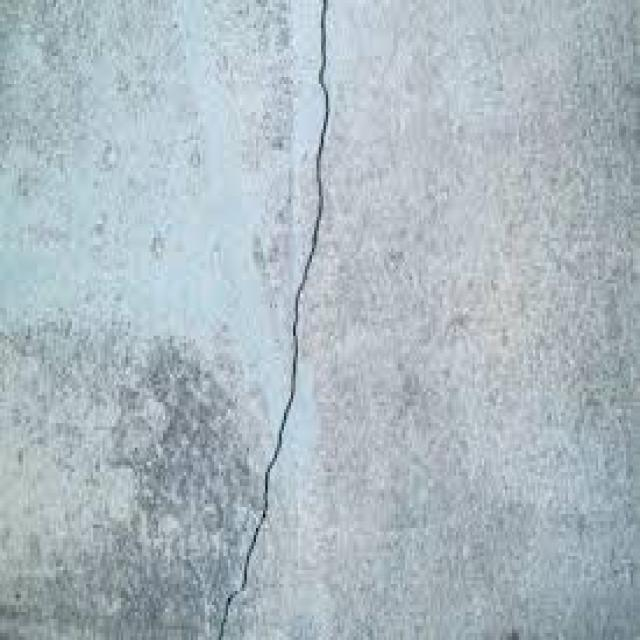crack: (217, 1, 328, 639)
